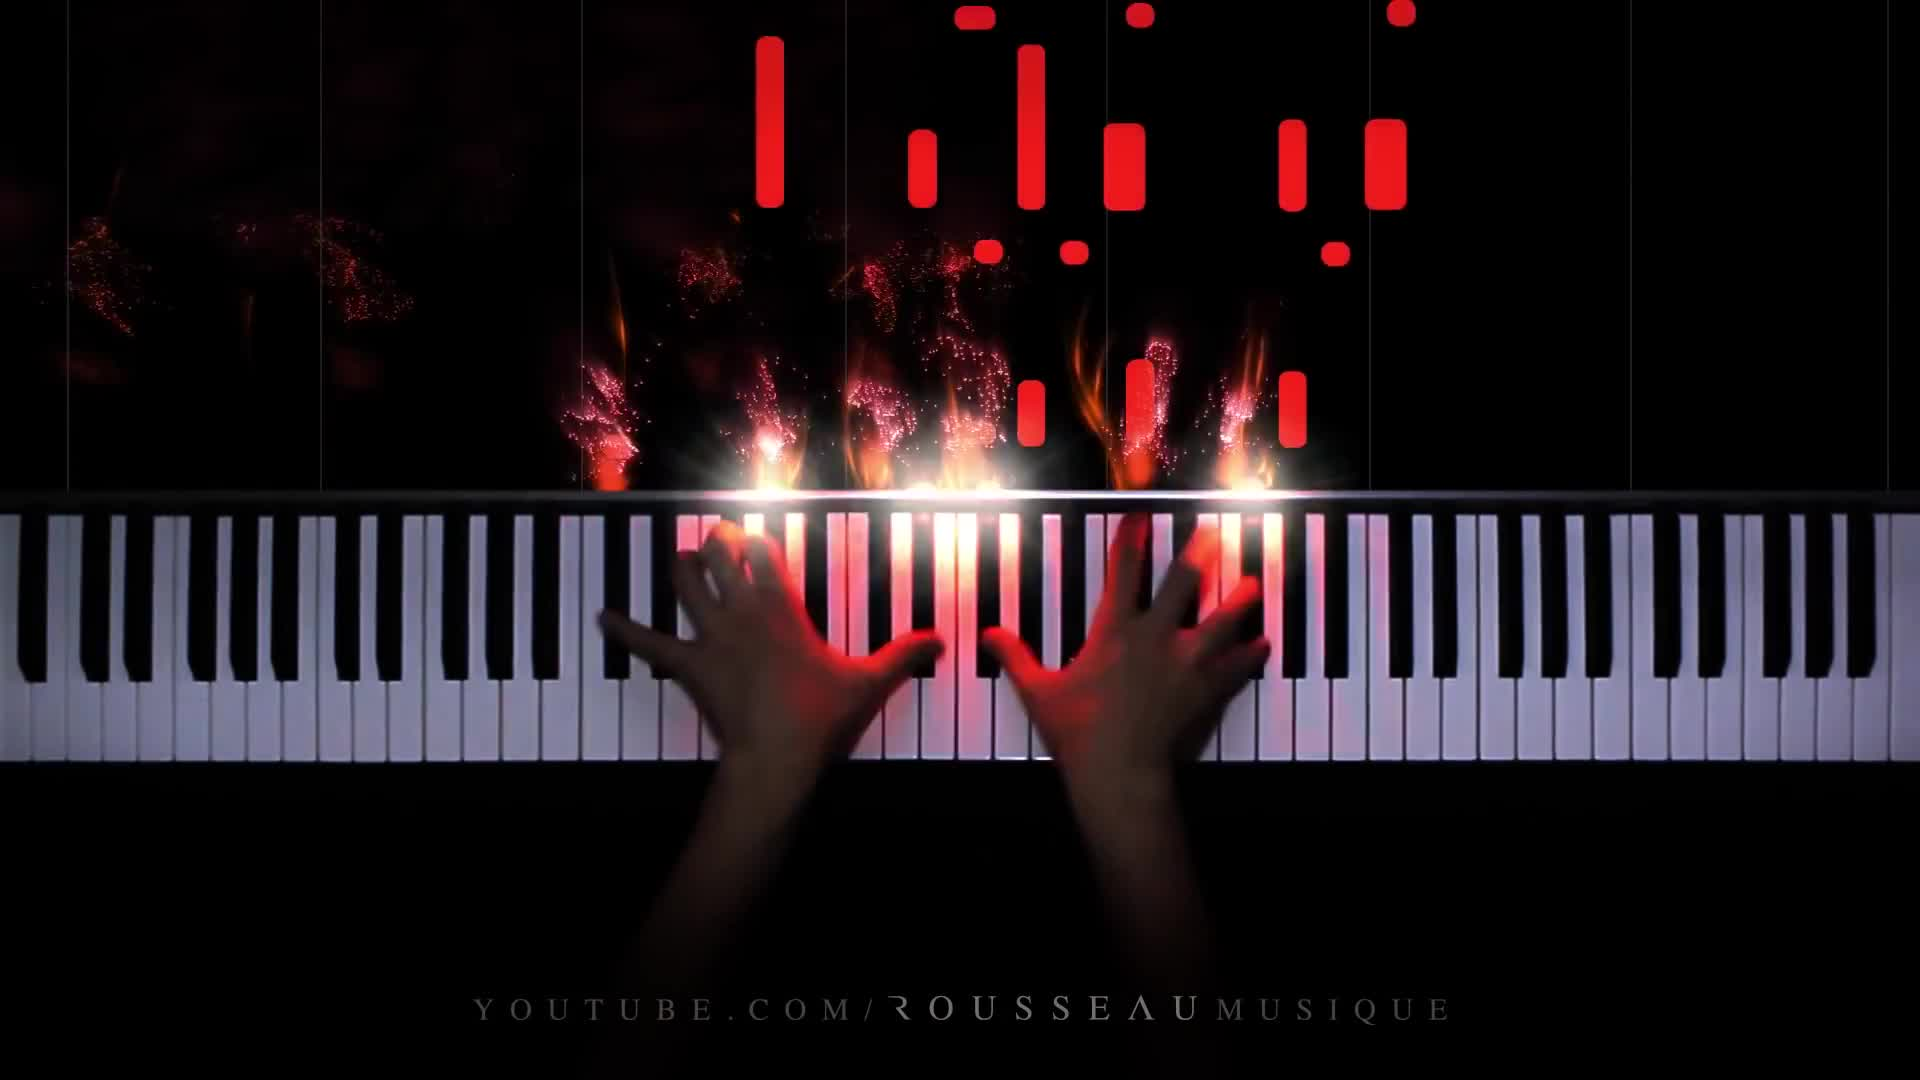left: (593, 512, 947, 771)
right: (968, 514, 1276, 781)
